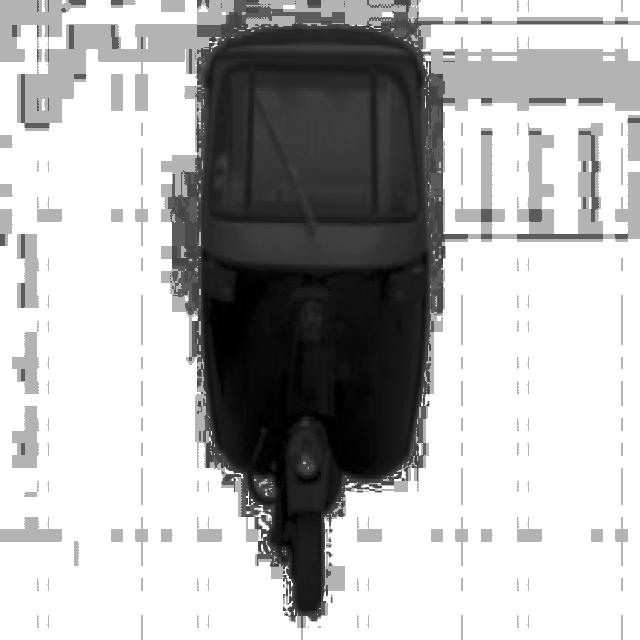Auto-Rickshaw: (190, 20, 428, 612)
